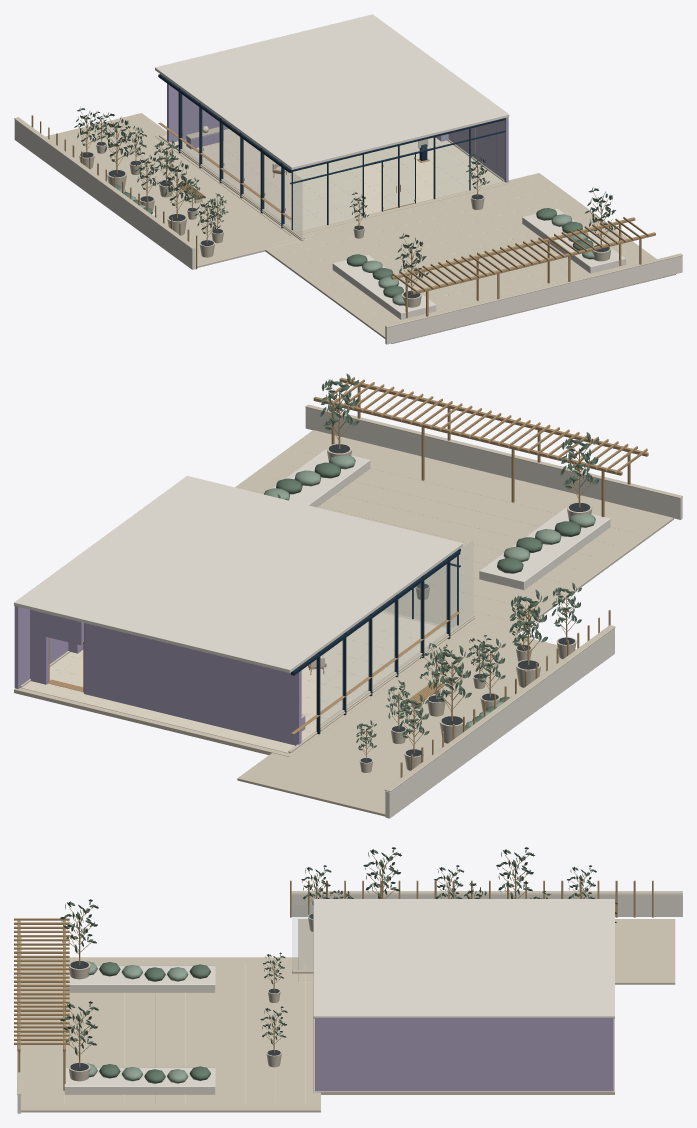
The model's file is party.glb.
3 views of the same model, one above another, from view 1: azimuth 30°, elevation 25°; view 2: azimuth 150°, elevation 25°; view 3: azimuth 270°, elevation 25° (orthographic). The views are drawn at different scales.
Visible parts, largest first — view 1: SHOWROOM · party, Wind in the olive crown (×4); view 2: SHOWROOM · party, Wind in the olive crown (×7); view 3: SHOWROOM · party, Wind in the olive crown (×8).
Boxes of the visible parts, box(x1,y1,x2,y2) form: SHOWROOM · party: box(14, 14, 682, 344); Wind in the olive crown (×4): box(100, 112, 618, 287); SHOWROOM · party: box(14, 377, 682, 818); Wind in the olive crown (×7): box(320, 373, 599, 745); SHOWROOM · party: box(14, 861, 682, 1113); Wind in the olive crown (×8): box(60, 847, 596, 1059).
Size of the model in its own units: 31 by 6.17 by 44.35.
